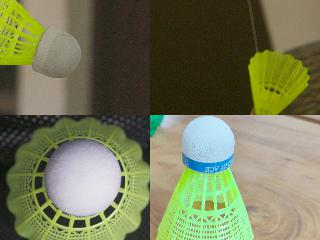shuttlecock: (5, 118, 149, 239), (156, 116, 255, 239), (0, 0, 80, 79), (246, 49, 308, 114)
